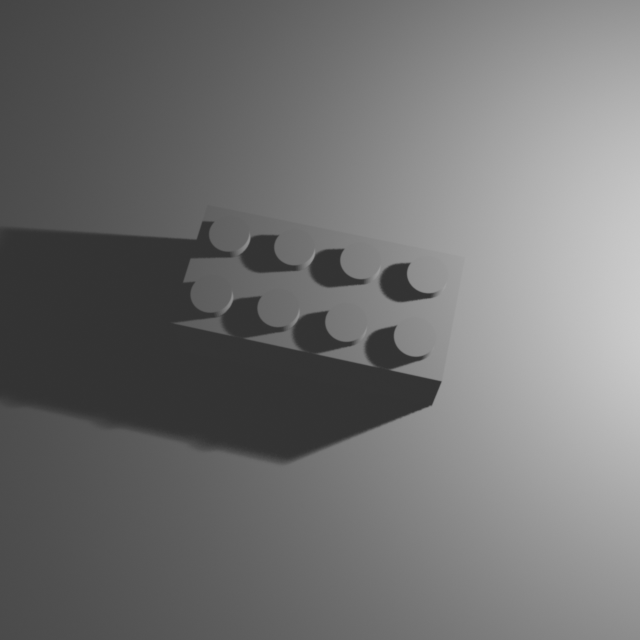lego_2x4: (168, 198, 467, 406)
